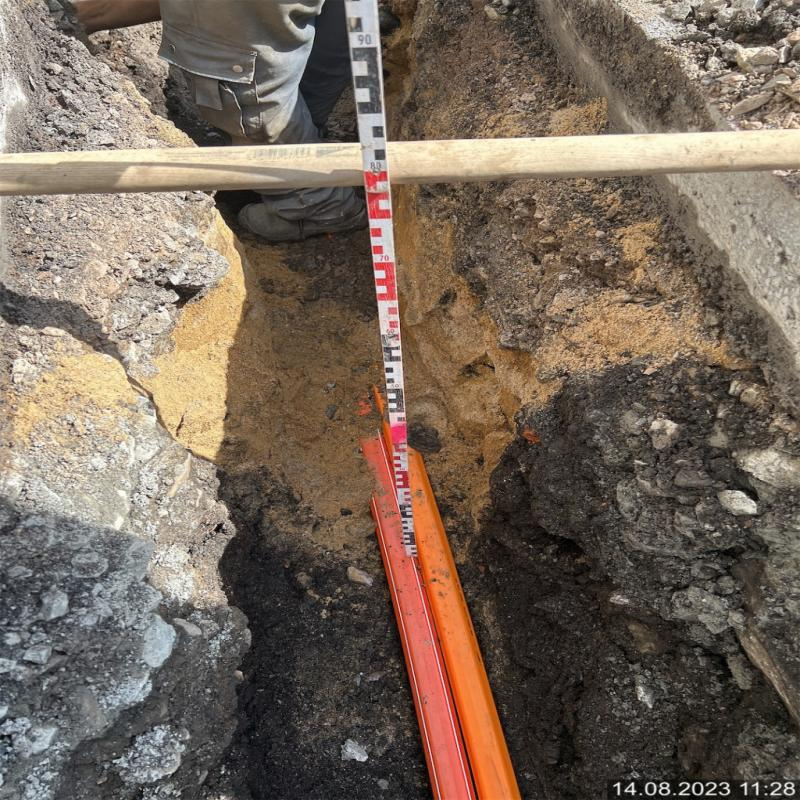Orang-Speednetrohrchen: (355, 404, 525, 800)
